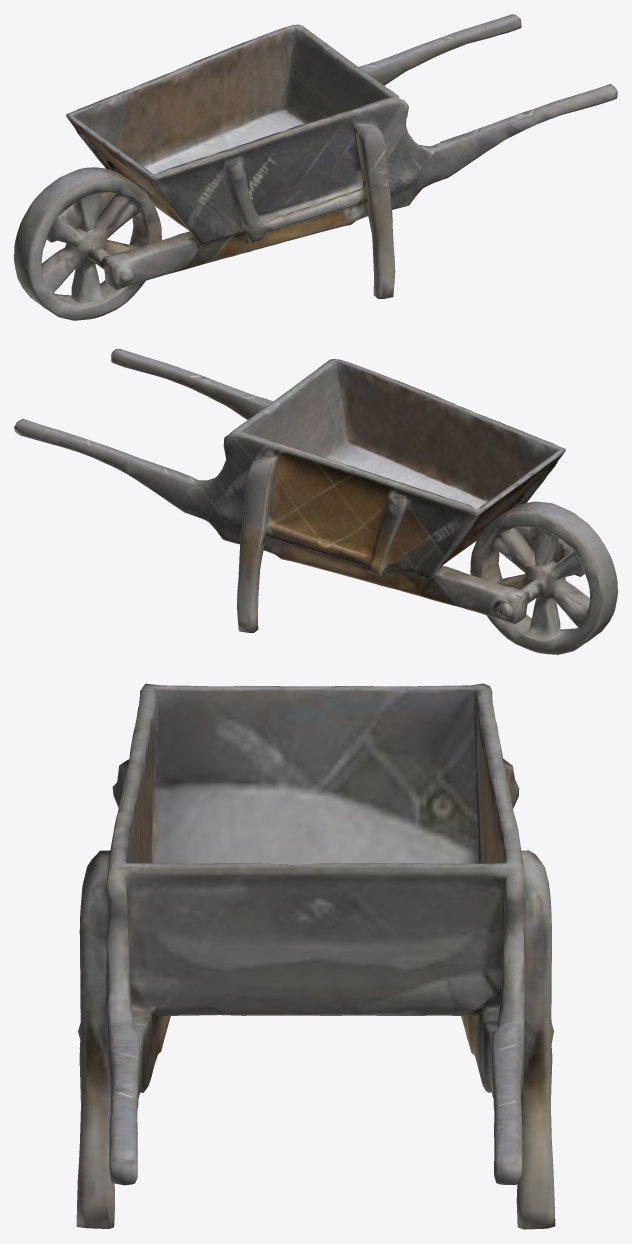
Rendered from wheelbarrow.glb.
3 renders of one model, top to bottom at view 1: azimuth 30°, elevation 25°; view 2: azimuth 150°, elevation 25°; view 3: azimuth 270°, elevation 25°, orthographic. The views are drawn at different scales.
Parts seen in each view (by area): view 1: model; view 2: model; view 3: model.
Boxes of the visible parts, x1,y1,x2,y2 form: model: (14,14,617,320); model: (14,349,617,654); model: (76,683,555,1229).
Size of the model in its own units: 2 by 0.6628 by 0.7592.
Materials: 1 (1 with a texture image).
